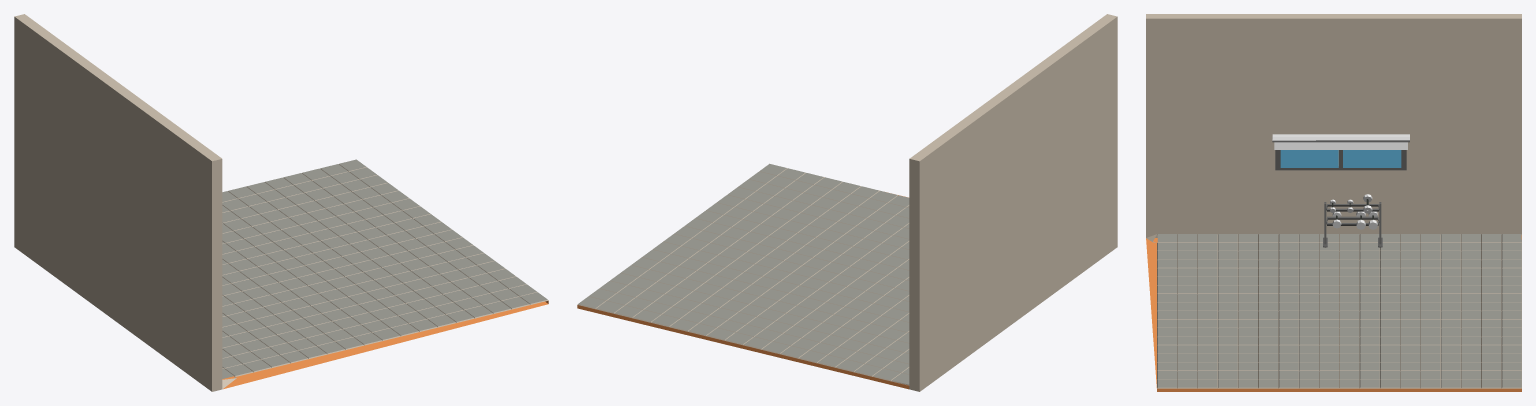
Rendered from Gym_Other.fbx.
The picture shows the model from 3 angles, left to right: view 1: azimuth 30°, elevation 25°; view 2: azimuth 150°, elevation 25°; view 3: azimuth 270°, elevation 25°; orthographic projection. The views are drawn at different scales.
Parts seen in each view (by area): view 1: Gym_Wall_2; view 2: Gym_Wall_2; view 3: Gym_Wall_2, Gym_Window, Gym_Dumbbell.
Boxes of the visible parts, left/top/right/bottom form: Gym_Wall_2: left=14, top=14, right=548, bottom=391; Gym_Wall_2: left=577, top=14, right=1117, bottom=391; Gym_Wall_2: left=1146, top=14, right=1521, bottom=391; Gym_Window: left=1272, top=134, right=1409, bottom=170; Gym_Dumbbell: left=1323, top=194, right=1382, bottom=247.
Size of the model in its own units: 10.1 by 6.5 by 10.1.
